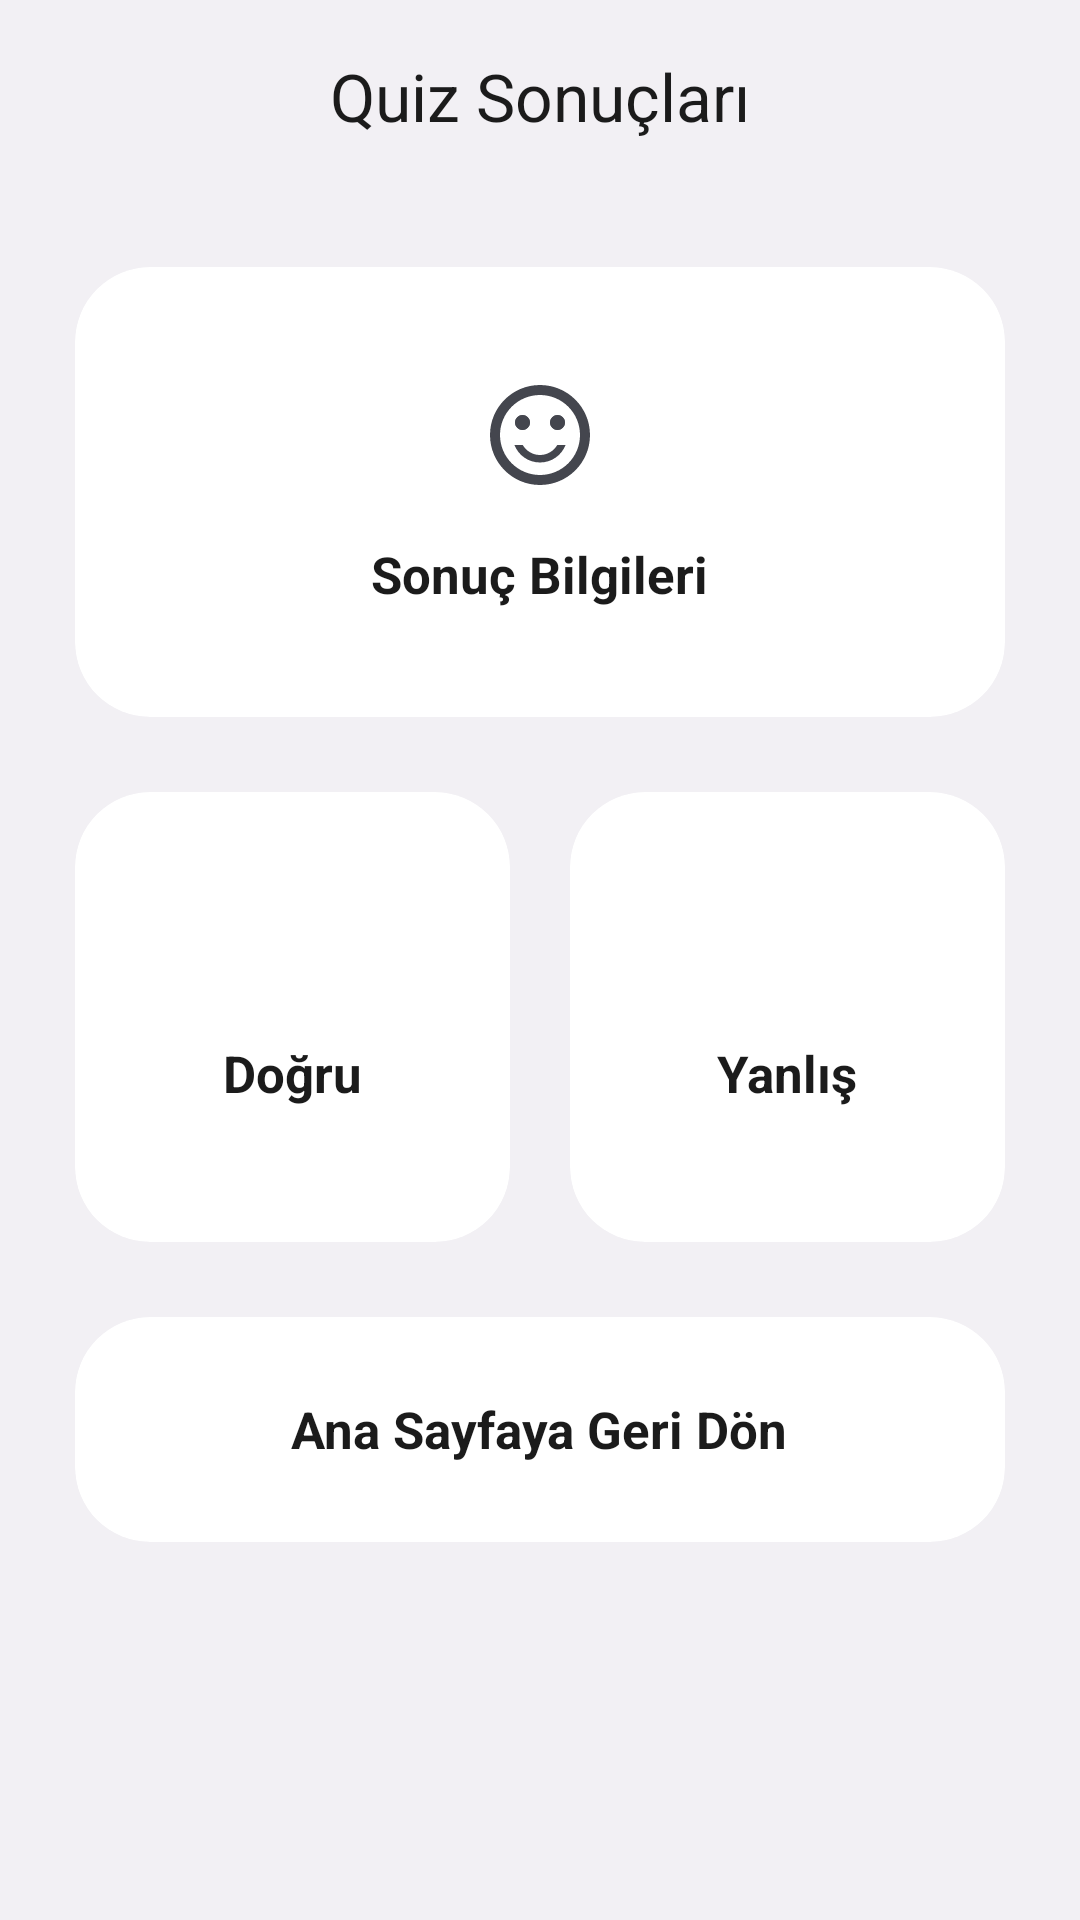

Icons on this 1080w x 1920h Android screen, each with the point to tap as point (x, y):
smile: point (540, 435)
